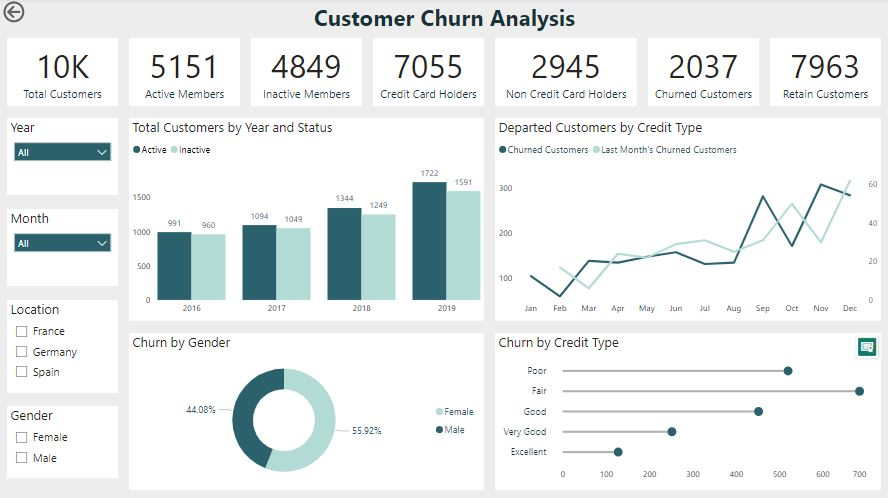

The page's visual inventory and layout, read from the dashboard file:
{"tool":"powerbi","page":{"name":"Page 1","canvas":[1280,720],"ordinal":0},"visuals":[{"type":"textbox","box":[0,0,1280,57.1],"z":0},{"type":"card","fields":{"Values":["Dax Measures.Total Customers"]},"box":[10.1,57.6,159.8,97.9],"z":1000},{"type":"card","fields":{"Values":["Dax Measures.Active Members"]},"box":[185.8,57.6,159.8,97.9],"z":2000},{"type":"card","fields":{"Values":["Dax Measures.Inactive Members"]},"box":[361.4,57.6,159.8,97.9],"z":3000},{"type":"card","fields":{"Values":["Dax Measures.Credit Card Holders"]},"box":[537.1,57.6,159.8,97.9],"z":4000},{"type":"card","fields":{"Values":["Dax Measures.Non Credit Card Holders"]},"box":[712.8,57.6,204.5,97.9],"z":5000},{"type":"card","fields":{"Values":["Dax Measures.Exit Customers"]},"box":[933.1,57.6,159.8,97.9],"z":6000},{"type":"card","fields":{"Values":["Dax Measures.Retain Customers"]},"box":[1108.8,57.6,159.8,97.9],"z":7000},{"type":"slicer","title":"Year","fields":{"Values":["Date Master.Year"]},"box":[10.1,172.8,159.8,110.9],"z":8000},{"type":"slicer","title":"Month","fields":{"Values":["Date Master.Month Name"]},"box":[10.1,303.4,159.8,110.9],"z":9000},{"type":"slicer","title":"Location","fields":{"Values":["Geography.GeographyLocation"]},"box":[10.1,434.9,159.8,133.9],"z":10000},{"type":"slicer","title":"Gender","fields":{"Values":["Gender.GenderCategory"]},"box":[10.1,587.5,159.8,103.7],"z":11000},{"type":"clusteredColumnChart","title":"Total Customers by Year and Status","fields":{"Category":["Date Master.Year","Date Master.Month Name"],"Y":["Dax Measures.Total Customers"],"Series":["Active customers.ActiveStatus"]},"box":[185.8,172.8,511.2,292.3],"z":12000},{"type":"actionButton","box":[0,0,100,40],"z":13000},{"type":"lineChart","title":"Departed Customers by Credit Type","fields":{"Category":["Date Master.Month Name"],"Y":["Dax Measures.Exit Customers"],"Y2":["Dax Measures.Previous Month Exit Customers"]},"box":[712.8,172.8,555.8,292.3],"z":14000},{"type":"donutChart","title":"Churn by Gender","fields":{"Y":["Dax Measures.Exit Customers"],"Category":["Gender.GenderCategory"]},"box":[185.8,482.4,511.2,226.1],"z":15000},{"type":"lollipopBarChart29115F0ADEDB437DBCDF8E8A3E66E088","title":"Churn by Credit Type","fields":{"axis":["CreditTypeSortOrder.Credit Type"],"values":["Dax Measures.Churned Customers"]},"box":[712.8,482.4,555.8,226.1],"z":16000}]}

Visuals, with their boxes in screenshot pixels (x1, y1, x2, y2), scaled from the page's 1280x720 canvas onto the 888x498 screenshot:
textbox: 0, 0, 887, 39
card - Dax Measures.Total Customers: 7, 40, 118, 108
card - Dax Measures.Active Members: 129, 40, 240, 108
card - Dax Measures.Inactive Members: 251, 40, 362, 108
card - Dax Measures.Credit Card Holders: 373, 40, 483, 108
card - Dax Measures.Non Credit Card Holders: 495, 40, 636, 108
card - Dax Measures.Exit Customers: 647, 40, 758, 108
card - Dax Measures.Retain Customers: 769, 40, 880, 108
"Year" slicer: 7, 120, 118, 196
"Month" slicer: 7, 210, 118, 287
"Location" slicer: 7, 301, 118, 393
"Gender" slicer: 7, 406, 118, 478
"Total Customers by Year and Status" clusteredColumnChart: 129, 120, 484, 322
actionButton: 0, 0, 69, 28
"Departed Customers by Credit Type" lineChart: 495, 120, 880, 322
"Churn by Gender" donutChart: 129, 334, 484, 490
"Churn by Credit Type" lollipopBarChart29115F0ADEDB437DBCDF8E8A3E66E088: 495, 334, 880, 490
